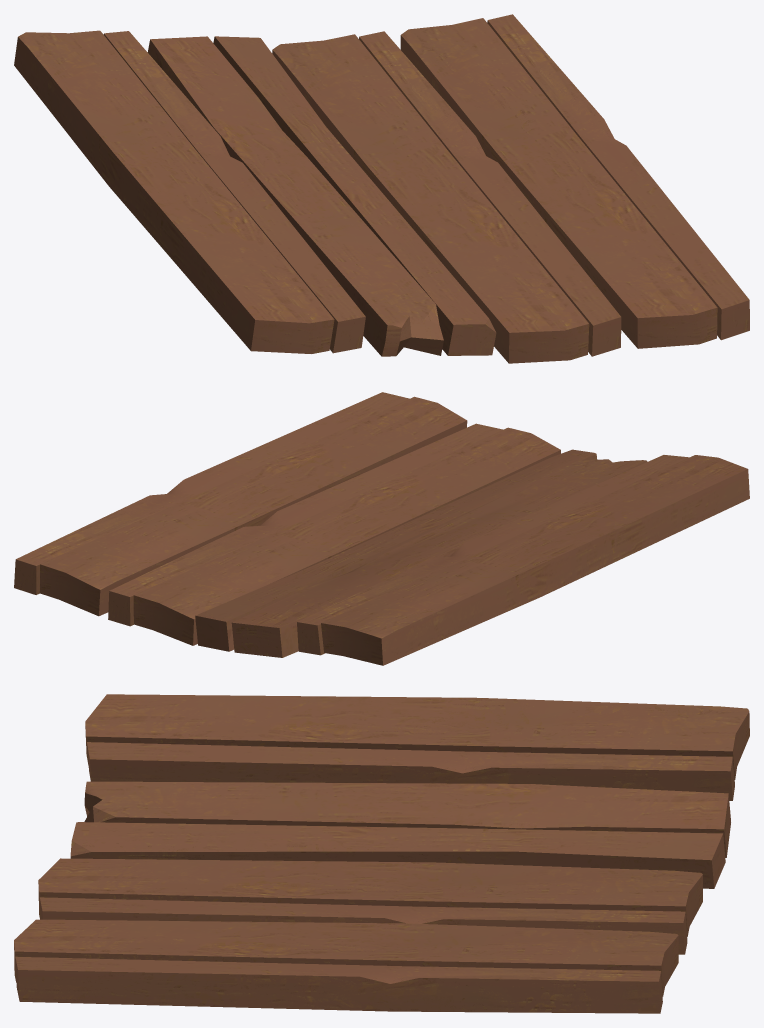
File: tablas de madera movibles.fbx
3 renders of one model, top to bottom at view 1: azimuth 30°, elevation 25°; view 2: azimuth 150°, elevation 25°; view 3: azimuth 270°, elevation 25°, orthographic. The views are drawn at different scales.
Visible parts, largest first — view 1: Estilo de madera 2.003; view 2: Estilo de madera 2.003; view 3: Estilo de madera 2.003.
Boxes of the visible parts, bbox=[...] form: Estilo de madera 2.003: bbox=[14, 14, 749, 363]; Estilo de madera 2.003: bbox=[14, 392, 749, 665]; Estilo de madera 2.003: bbox=[14, 694, 749, 1013].
Bounding box in the file's own units: 30.1 × 6.33 × 35.76.
1 material, 1 textured.
